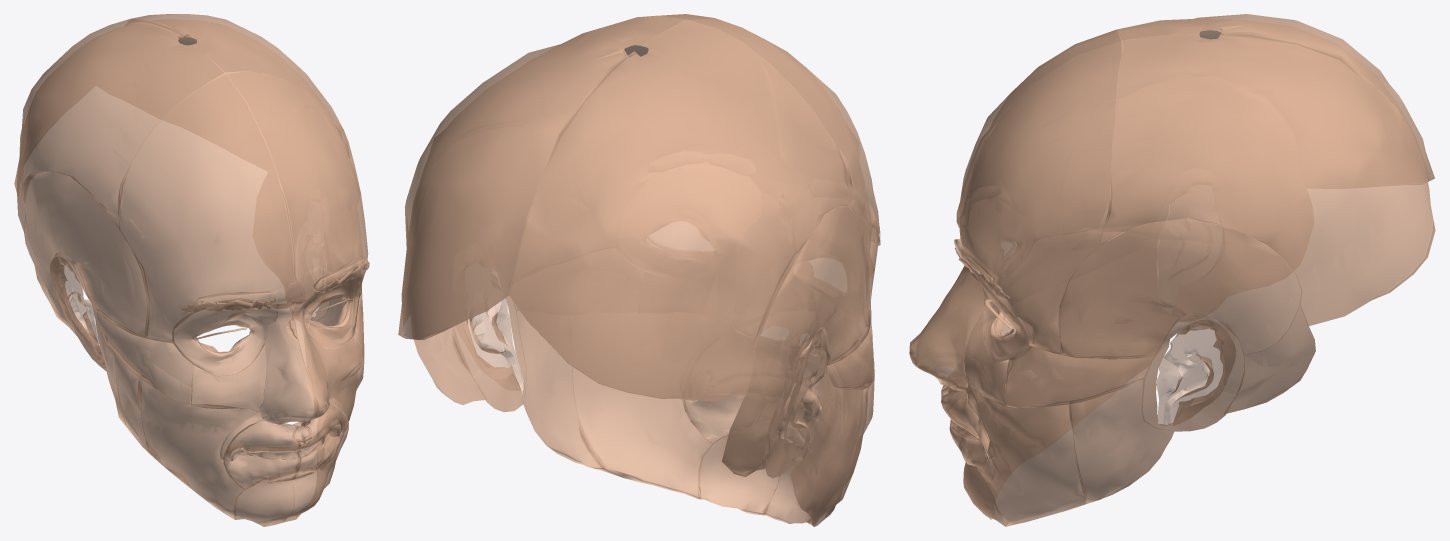
Rendered from regions.head.glb.
3 views of the same model, side by side, from view 1: azimuth 30°, elevation 25°; view 2: azimuth 150°, elevation 25°; view 3: azimuth 270°, elevation 25° (orthographic). The views are drawn at different scales.
Parts seen in each view (by area): view 1: right_frontal_region, right_parietal_region, left_frontal_region, right_temporal_region, right_buccal_region, left_parietal_region, right_nasal_region, right_orbital_region, right_zygomatic_region, right_oral_region, right_infra_orbital_region, left_orbital_region (+17 smaller); view 2: right_parietal_region, left_parietal_region, right_temporal_region, left_buccal_region, right_frontal_region, left_parotideomasseteric_region, right_parotideomasseteric_region, right_mastoid_region, left_mental_region, left_auricular_region, left_mastoid_region, right_auricular_region (+8 smaller); view 3: left_parietal_region, left_frontal_region, left_temporal_region, left_buccal_region, left_parotideomasseteric_region, right_parietal_region, left_zygomatic_region, left_nasal_region, left_mastoid_region, left_auricular_region, right_frontal_region, left_orbital_region (+7 smaller).
Part boxes in pixels (box(x1,y1,x2,y2)): right_frontal_region: box(118, 72, 295, 343); right_parietal_region: box(14, 18, 227, 233); left_frontal_region: box(225, 71, 368, 305); right_temporal_region: box(21, 171, 149, 337); right_buccal_region: box(137, 375, 258, 519); left_parietal_region: box(125, 14, 349, 159); right_nasal_region: box(259, 303, 317, 426); right_orbital_region: box(172, 298, 277, 376); right_zygomatic_region: box(96, 308, 193, 404); right_oral_region: box(223, 420, 304, 489); right_infra_orbital_region: box(189, 344, 266, 411); left_orbital_region: box(302, 267, 365, 349); right_parietal_region: box(509, 19, 856, 401); left_parietal_region: box(398, 15, 688, 339); right_temporal_region: box(753, 204, 870, 403); left_buccal_region: box(572, 366, 712, 499); right_frontal_region: box(686, 18, 879, 326); left_parotideomasseteric_region: box(516, 310, 606, 470); right_parotideomasseteric_region: box(789, 385, 868, 522); right_mastoid_region: box(722, 366, 778, 476); left_mental_region: box(697, 434, 780, 515); left_auricular_region: box(453, 295, 526, 412); left_mastoid_region: box(414, 327, 486, 404); right_auricular_region: box(765, 327, 831, 478); left_parietal_region: box(1099, 31, 1435, 326); left_frontal_region: box(959, 40, 1125, 354); left_temporal_region: box(1058, 218, 1302, 359); left_buccal_region: box(969, 382, 1086, 526); left_parotideomasseteric_region: box(1068, 378, 1173, 503); right_parietal_region: box(1116, 14, 1434, 181); left_zygomatic_region: box(1004, 345, 1153, 408); left_nasal_region: box(909, 265, 984, 390); left_mastoid_region: box(1223, 305, 1315, 414); left_auricular_region: box(1141, 313, 1244, 431); right_frontal_region: box(959, 29, 1124, 212); left_orbital_region: box(963, 251, 1034, 361).
Size of the model in its own units: 0.1593 by 0.2306 by 0.2276.
